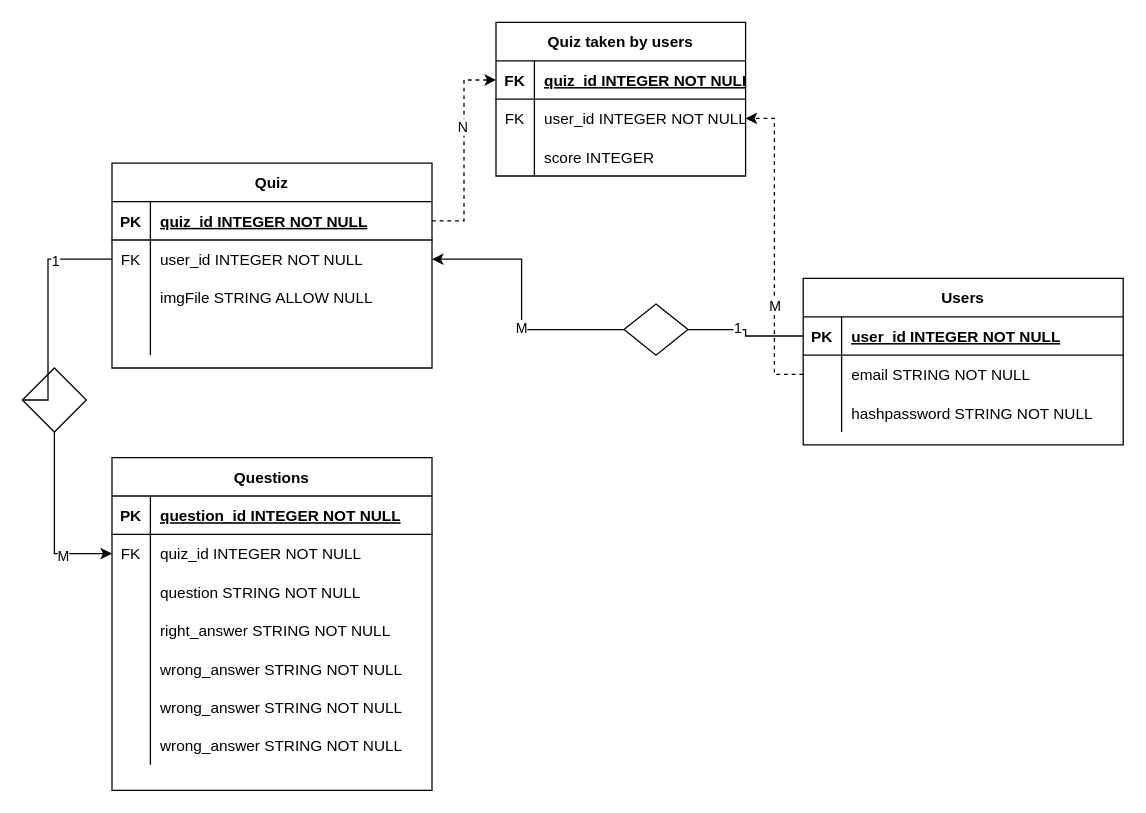
The diagram is 1146 pixels wide and 813 high, and some of its shapes have lost their labels. Here are the shapes that lost their labels. From the top down, the centre of each, then its label:
At [655,329]: "adds".
At [53,399]: "has".
